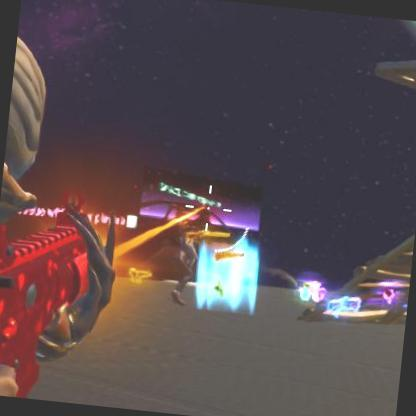person: (166, 221, 204, 306)
